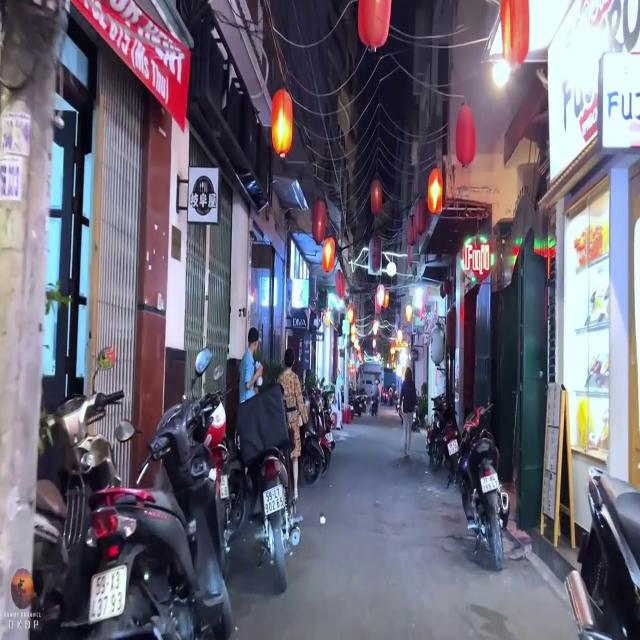bien_trang: (85, 567, 130, 623), (260, 483, 284, 520), (476, 469, 502, 497)
